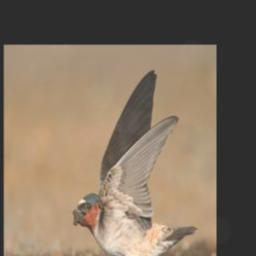Swallow: (71, 68, 198, 256)
